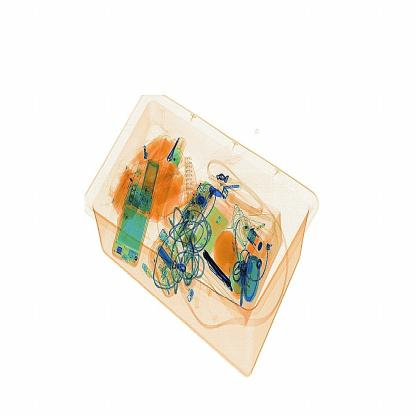knife: (197, 247, 241, 301)
